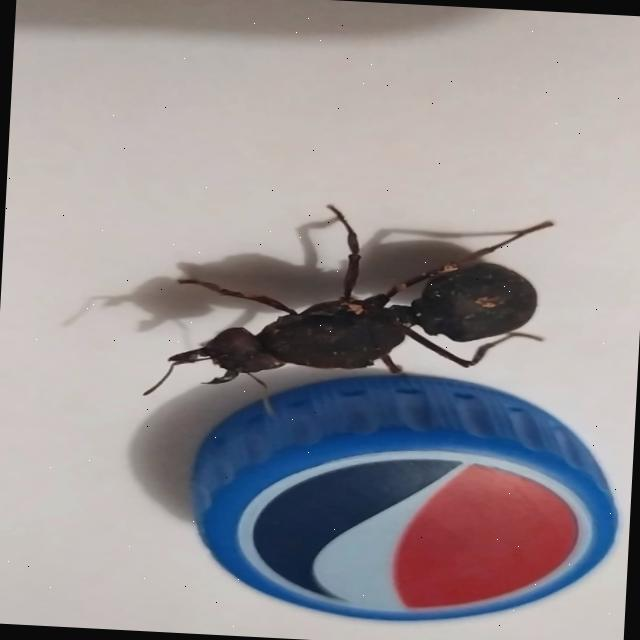Alive-Female-Dealate: (142, 196, 554, 430)
